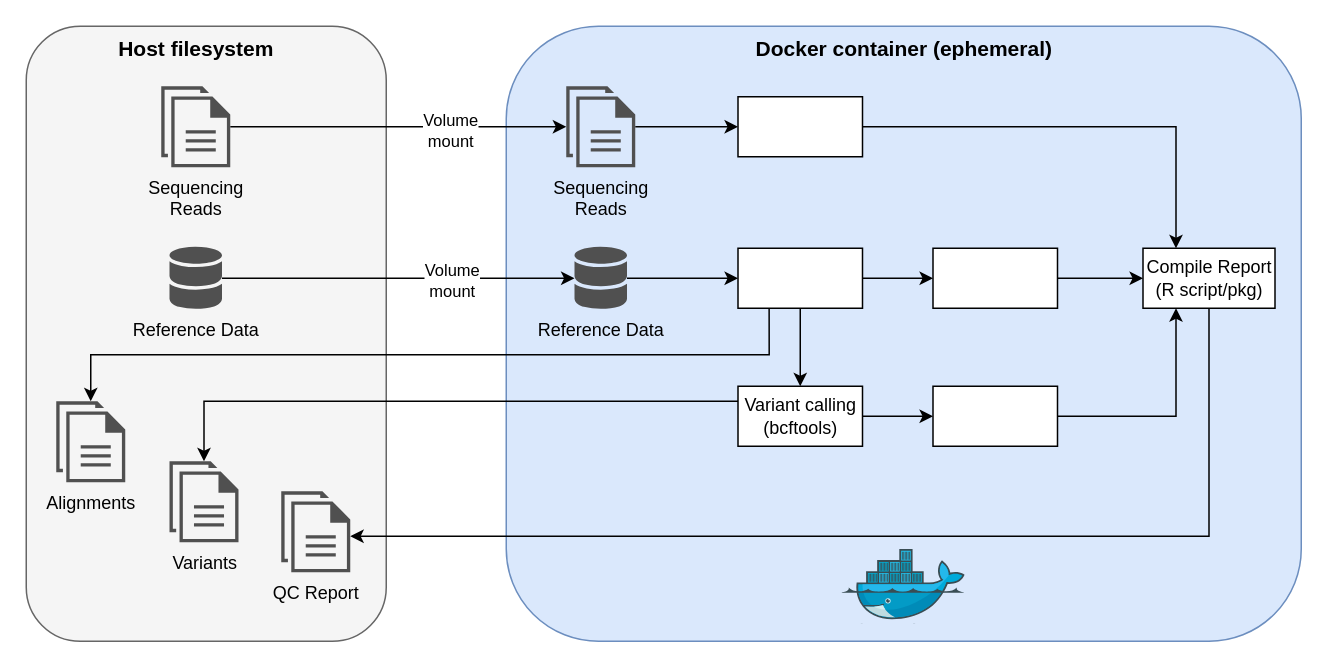
This 1328x668 diagram has some shape labels left out. The shapes that lost their labels are listed below. From the top down, each one's box as (x1, y1, x2, y2) in pixels, then its label:
(736, 95, 862, 157): Read QC (seqtk)
(736, 247, 862, 308): Alignment (bwa)
(932, 247, 1058, 308): Alignment QC (samtools)
(932, 385, 1058, 446): Variant QC (bcftools)
